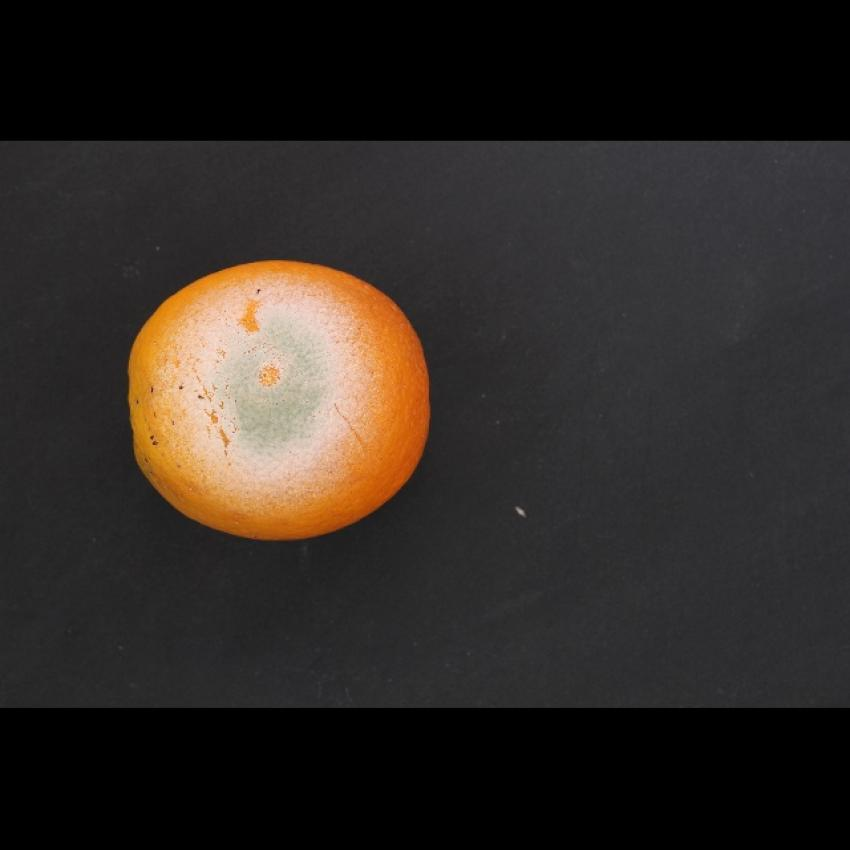Mal estado: (120, 254, 446, 546)
